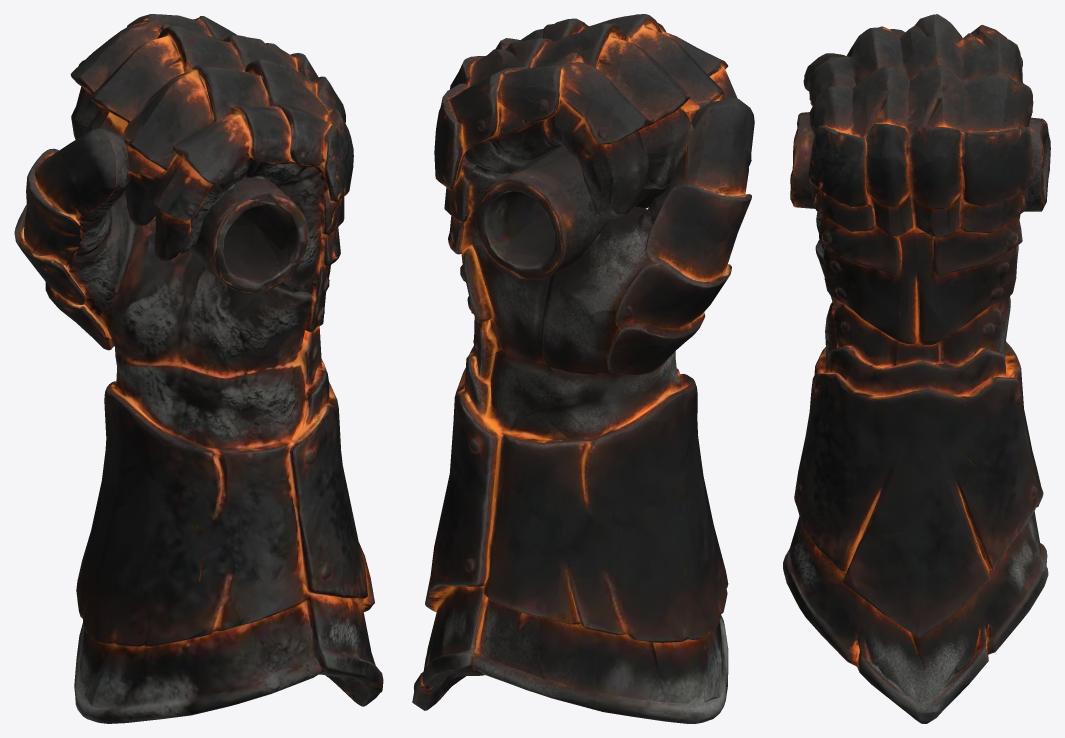
3 renders of one model, left to right at view 1: azimuth 30°, elevation 25°; view 2: azimuth 150°, elevation 25°; view 3: azimuth 270°, elevation 25°, orthographic. The views are drawn at different scales.
Visible parts, largest first — view 1: mesh_node; view 2: mesh_node; view 3: mesh_node.
Part boxes in pixels (box(x1,y1,x2,y2)): mesh_node: box(14, 14, 383, 723); mesh_node: box(412, 14, 754, 723); mesh_node: box(783, 14, 1050, 723).
Bounding box in the file's own units: 0.9156 × 1.9 × 0.7316.
1 material, 1 textured.
